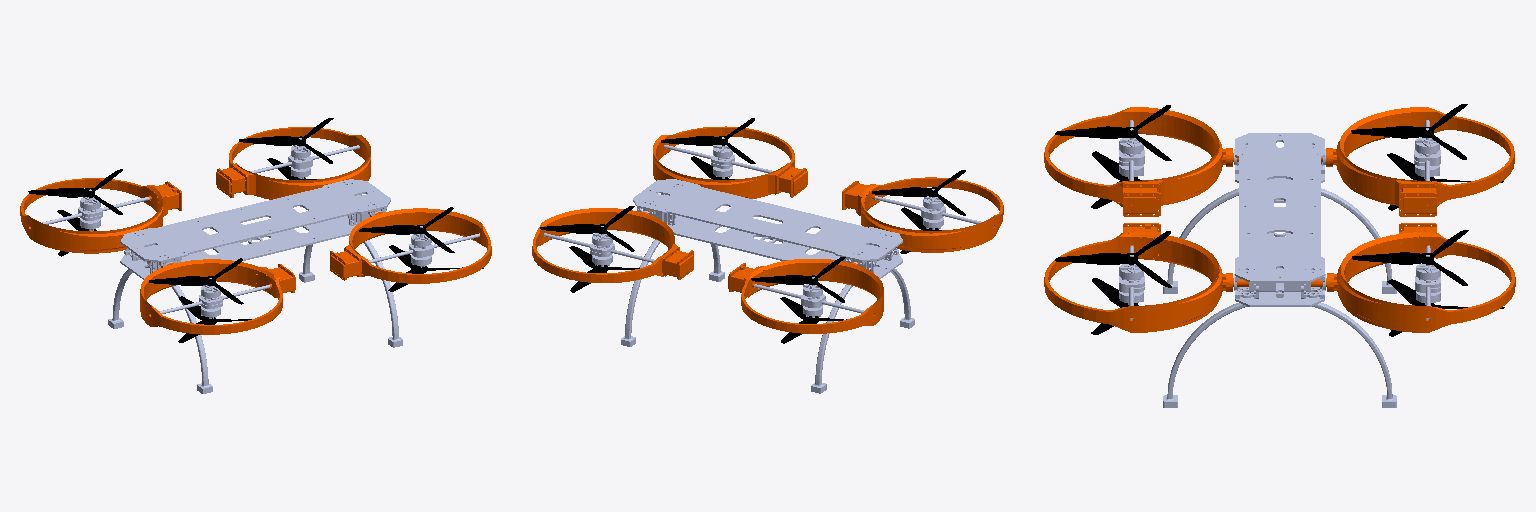
URDF robot description (AUV_USDF_V2):
<?xml version="1.0" encoding="utf-8"?>
<!-- This URDF was automatically created by SolidWorks to URDF Exporter! Originally created by Stephen Brawner (brawner@gmail.com) 
     Commit Version: 1.6.0-4-g7f85cfe  Build Version: 1.6.7995.38578
     For more information, please see http://wiki.ros.org/sw_urdf_exporter -->
<robot
  name="AUV_USDF_V2">
  <link
    name="BODY">
    <inertial>
      <origin
        xyz="-1.78864145716773E-11 1.94710775633378E-06 0.0003594008518924"
        rpy="0 0 0" />
      <mass
        value="3.63848428" />
      <inertia
        ixx="0.011423969"
        ixy="5.96079E-07"
        ixz="-3.33154E-11"
        iyy="0.039202722"
        iyz="1.68341E-11"
        izz="0.045678665" />
    </inertial>
    <visual>
      <origin
        xyz="0 0 0"
        rpy="0 0 0" />
      <geometry>
        <mesh
          filename="package://AUV_USDF_V2/meshes/BODY.STL" />
      </geometry>
      <material
        name="">
        <color
          rgba="0.792156862745098 0.819607843137255 0.933333333333333 1" />
      </material>
    </visual>
    <collision>
      <origin
        xyz="0 0 0"
        rpy="0 0 0" />
      <geometry>
        <mesh
          filename="package://AUV_USDF_V2/meshes/BODY.STL" />
      </geometry>
    </collision>
  </link>
  <link
    name="ARM_MOTOR_1">
    <inertial>
      <origin
        xyz="-0.0389784553103623 1.5313512411963E-05 0.101594427641778"
        rpy="0 0 0" />
      <mass
        value="0.171211121215418" />
      <inertia
        ixx="0.000682618573115271"
        ixy="-1.67023866326457E-08"
        ixz="8.72682825236306E-06"
        iyy="0.00143862885522161"
        iyz="3.1357988257909E-08"
        izz="0.000781642845826597" />
    </inertial>
    <visual>
      <origin
        xyz="0 0 0"
        rpy="0 0 0" />
      <geometry>
        <mesh
          filename="package://AUV_USDF_V2/meshes/ARM_MOTOR_1.STL" />
      </geometry>
      <material
        name="">
        <color
          rgba="1.0 0.42 0.0 1.0" />
      </material>
    </visual>
    <collision>
      <origin
        xyz="0 0 0"
        rpy="0 0 0" />
      <geometry>
        <mesh
          filename="package://AUV_USDF_V2/meshes/ARM_MOTOR_1.STL" />
      </geometry>
    </collision>
  </link>
  <joint
    name="ARM_MOTOR_1"
    type="continuous">
    <origin
      xyz="0.19724 -0.060947 0.016645"
      rpy="1.5708 0 -3.4641E-05" />
    <parent
      link="BODY" />
    <child
      link="ARM_MOTOR_1" />
    <axis
      xyz="0 0 1" />
    <limit
      lower="0"
      upper="0"
      effort="0"
      velocity="0" />
    <dynamics
      damping="0.1"
      friction="0.1" />
  </joint>
  <link
    name="SHAFT_MOTOR_1">
    <inertial>
      <origin
        xyz="1.24852145289012E-09 4.44040642079147E-05 6.69553094634345E-08"
        rpy="0 0 0" />
      <mass
        value="0.0392576827500334" />
      <inertia
        ixx="3.01294455795419E-06"
        ixy="-2.49453019116408E-13"
        ixz="5.66480582612659E-14"
        iyy="2.80026550719804E-05"
        iyz="-4.61766228570266E-13"
        izz="2.99746221835832E-05" />
    </inertial>
    <visual>
      <origin
        xyz="0 0 0"
        rpy="0 0 0" />
      <geometry>
        <mesh
          filename="package://AUV_USDF_V2/meshes/SHAFT_MOTOR_1.STL" />
      </geometry>
      <material
        name="">
        <color
          rgba="0.792156862745098 0.819607843137255 0.933333333333333 1" />
      </material>
    </visual>
    <collision>
      <origin
        xyz="0 0 0"
        rpy="0 0 0" />
      <geometry>
        <mesh
          filename="package://AUV_USDF_V2/meshes/SHAFT_MOTOR_1.STL" />
      </geometry>
    </collision>
  </link>
  <joint
    name="SHAFT_MOTOR_1"
    type="continuous">
    <origin
      xyz="0.0017547 0 0.13685"
      rpy="-1.5708 3.4641E-05 6.0144E-05" />
    <parent
      link="ARM_MOTOR_1" />
    <child
      link="SHAFT_MOTOR_1" />
    <axis
      xyz="1 0 0" />
    <limit
      lower="0"
      upper="0"
      effort="0"
      velocity="0" />
    <dynamics
      damping="0.1"
      friction="0.1" />
  </joint>
  <link
    name="PROP_1_1">
    <inertial>
      <origin
        xyz="4.87362366491384E-07 -1.28964568568701E-06 -6.24510597713179E-05"
        rpy="0 0 0" />
      <mass
        value="0.00995506531302418" />
      <inertia
        ixx="9.43593602626946E-06"
        ixy="-4.05974355295979E-10"
        ixz="-2.09550529039149E-11"
        iyy="9.43512824398673E-06"
        iyz="3.15967256151104E-11"
        izz="1.87718126928338E-05" />
    </inertial>
    <visual>
      <origin
        xyz="0 0 0"
        rpy="0 0 0" />
      <geometry>
        <mesh
          filename="package://AUV_USDF_V2/meshes/PROP_1_1.STL" />
      </geometry>
      <material
        name="">
        <color
          rgba="0 0 0 1" />
      </material>
    </visual>
    <collision>
      <origin
        xyz="0 0 0"
        rpy="0 0 0" />
      <geometry>
        <mesh
          filename="package://AUV_USDF_V2/meshes/PROP_1_1.STL" />
      </geometry>
    </collision>
  </link>
  <joint
    name="PROP_1_1"
    type="continuous">
    <origin
      xyz="0 0.0001885 0.0357"
      rpy="0 0 0" />
    <parent
      link="SHAFT_MOTOR_1" />
    <child
      link="PROP_1_1" />
    <axis
      xyz="0 0 1" />
    <dynamics
      damping="0.1"
      friction="0.1" />
  </joint>
  <link
    name="PROP_1_2">
    <inertial>
      <origin
        xyz="4.87362654705281E-07 -1.28965971551986E-06 -6.24510915126775E-05"
        rpy="0 0 0" />
      <mass
        value="0.00995506531341917" />
      <inertia
        ixx="9.43593602344584E-06"
        ixy="-4.05972327844376E-10"
        ixz="-2.09550594712506E-11"
        iyy="9.43512822863146E-06"
        iyz="3.15973286522418E-11"
        izz="1.87718126765833E-05" />
    </inertial>
    <visual>
      <origin
        xyz="0 0 0"
        rpy="0 0 0" />
      <geometry>
        <mesh
          filename="package://AUV_USDF_V2/meshes/PROP_1_2.STL" />
      </geometry>
      <material
        name="">
        <color
          rgba="0 0 0 1" />
      </material>
    </visual>
    <collision>
      <origin
        xyz="0 0 0"
        rpy="0 0 0" />
      <geometry>
        <mesh
          filename="package://AUV_USDF_V2/meshes/PROP_1_2.STL" />
      </geometry>
    </collision>
  </link>
  <joint
    name="PROP_1_2"
    type="continuous">
    <origin
      xyz="0 0.0001885 -0.0357"
      rpy="3.1416 0 0" />
    <parent
      link="SHAFT_MOTOR_1" />
    <child
      link="PROP_1_2" />
    <axis
      xyz="0 0 1" />
    <dynamics
      damping="0.1"
      friction="0.1" />
  </joint>
  <link
    name="ARM_MOTOR_2">
    <inertial>
      <origin
        xyz="0.0389785828760353 1.53135124115744E-05 -0.0979119276439864"
        rpy="0 0 0" />
      <mass
        value="0.171211121215422" />
      <inertia
        ixx="0.000682618573115271"
        ixy="1.6702386643458E-08"
        ixz="8.72682825235967E-06"
        iyy="0.00143862885522164"
        iyz="-3.13579882589428E-08"
        izz="0.000781642845826627" />
    </inertial>
    <visual>
      <origin
        xyz="0 0 0"
        rpy="0 0 0" />
      <geometry>
        <mesh
          filename="package://AUV_USDF_V2/meshes/ARM_MOTOR_2.STL" />
      </geometry>
      <material
        name="">
        <color
          rgba="1.0 0.42 0.0 1.0" />
      </material>
    </visual>
    <collision>
      <origin
        xyz="0 0 0"
        rpy="0 0 0" />
      <geometry>
        <mesh
          filename="package://AUV_USDF_V2/meshes/ARM_MOTOR_2.STL" />
      </geometry>
    </collision>
  </link>
  <joint
    name="ARM_MOTOR_2"
    type="continuous">
    <origin
      xyz="-0.19724 0.06363 0.016645"
      rpy="1.5708 0 -3.4641E-05" />
    <parent
      link="BODY" />
    <child
      link="ARM_MOTOR_2" />
    <axis
      xyz="0 0 1" />
    <limit
      lower="0"
      upper="0"
      effort="0"
      velocity="0" />
    <dynamics
      damping="0.1"
      friction="0.1" />
  </joint>
  <link
    name="SHAFT_MOTOR_2">
    <inertial>
      <origin
        xyz="-1.24852161942357E-09 -4.44040642077898E-05 6.69553095744568E-08"
        rpy="0 0 0" />
      <mass
        value="0.0392576827500335" />
      <inertia
        ixx="3.01294455795419E-06"
        ixy="-2.49453019919076E-13"
        ixz="-5.66480585352048E-14"
        iyy="2.80026550719804E-05"
        iyz="4.61766229393912E-13"
        izz="2.99746221835832E-05" />
    </inertial>
    <visual>
      <origin
        xyz="0 0 0"
        rpy="0 0 0" />
      <geometry>
        <mesh
          filename="package://AUV_USDF_V2/meshes/SHAFT_MOTOR_2.STL" />
      </geometry>
      <material
        name="">
        <color
          rgba="0.792156862745098 0.819607843137255 0.933333333333333 1" />
      </material>
    </visual>
    <collision>
      <origin
        xyz="0 0 0"
        rpy="0 0 0" />
      <geometry>
        <mesh
          filename="package://AUV_USDF_V2/meshes/SHAFT_MOTOR_2.STL" />
      </geometry>
    </collision>
  </link>
  <joint
    name="SHAFT_MOTOR_2"
    type="continuous">
    <origin
      xyz="-0.0017546 0 -0.13317"
      rpy="-1.5708 3.4641E-05 -6.0144E-05" />
    <parent
      link="ARM_MOTOR_2" />
    <child
      link="SHAFT_MOTOR_2" />
    <axis
      xyz="1 0 0" />
    <limit
      lower="0"
      upper="0"
      effort="0"
      velocity="0" />
    <dynamics
      damping="0.1"
      friction="0.1" />
  </joint>
  <link
    name="PROP_2_1">
    <inertial>
      <origin
        xyz="-4.87362653012191E-07 -1.28965972680598E-06 6.24510915129828E-05"
        rpy="0 0 0" />
      <mass
        value="0.00995506531341817" />
      <inertia
        ixx="9.43593602344683E-06"
        ixy="4.05972326724634E-10"
        ixz="-2.09550594696729E-11"
        iyy="9.43512822862811E-06"
        iyz="-3.15973282989264E-11"
        izz="1.87718126765809E-05" />
    </inertial>
    <visual>
      <origin
        xyz="0 0 0"
        rpy="0 0 0" />
      <geometry>
        <mesh
          filename="package://AUV_USDF_V2/meshes/PROP_2_1.STL" />
      </geometry>
      <material
        name="">
        <color
          rgba="0 0 0 1" />
      </material>
    </visual>
    <collision>
      <origin
        xyz="0 0 0"
        rpy="0 0 0" />
      <geometry>
        <mesh
          filename="package://AUV_USDF_V2/meshes/PROP_2_1.STL" />
      </geometry>
    </collision>
  </link>
  <joint
    name="PROP_2_1"
    type="continuous">
    <origin
      xyz="0 -0.0001885 0.0357"
      rpy="0 0 0" />
    <parent
      link="SHAFT_MOTOR_2" />
    <child
      link="PROP_2_1" />
    <axis
      xyz="0 0 1" />
    <dynamics
      damping="0.1"
      friction="0.1" />
  </joint>
  <link
    name="PROP_2_2">
    <inertial>
      <origin
        xyz="-4.87362368795097E-07 -1.28964569306653E-06 6.24510597723171E-05"
        rpy="0 0 0" />
      <mass
        value="0.00995506531302492" />
      <inertia
        ixx="9.43593602626727E-06"
        ixy="4.05974354480174E-10"
        ixz="-2.09550527418746E-11"
        iyy="9.43512824398459E-06"
        iyz="-3.15978934185417E-11"
        izz="1.87718126928294E-05" />
    </inertial>
    <visual>
      <origin
        xyz="0 0 0"
        rpy="0 0 0" />
      <geometry>
        <mesh
          filename="package://AUV_USDF_V2/meshes/PROP_2_2.STL" />
      </geometry>
      <material
        name="">
        <color
          rgba="0 0 0 1" />
      </material>
    </visual>
    <collision>
      <origin
        xyz="0 0 0"
        rpy="0 0 0" />
      <geometry>
        <mesh
          filename="package://AUV_USDF_V2/meshes/PROP_2_2.STL" />
      </geometry>
    </collision>
  </link>
  <joint
    name="PROP_2_2"
    type="continuous">
    <origin
      xyz="0 -0.0001885 -0.0357"
      rpy="3.1416 0 0" />
    <parent
      link="SHAFT_MOTOR_2" />
    <child
      link="PROP_2_2" />
    <axis
      xyz="0 0 1" />
    <dynamics
      damping="0.1"
      friction="0.1" />
  </joint>
  <link
    name="ARM_MOTOR_3">
    <inertial>
      <origin
        xyz="-0.0389853663267933 -1.53135124117409E-05 -0.0979092268907844"
        rpy="0 0 0" />
      <mass
        value="0.171211121215421" />
      <inertia
        ixx="0.000682617364364552"
        ixy="1.67045591446175E-08"
        ixz="-8.71996755868847E-06"
        iyy="0.00143862885522163"
        iyz="3.13568310057899E-08"
        izz="0.000781644054577331" />
    </inertial>
    <visual>
      <origin
        xyz="0 0 0"
        rpy="0 0 0" />
      <geometry>
        <mesh
          filename="package://AUV_USDF_V2/meshes/ARM_MOTOR_3.STL" />
      </geometry>
      <material
        name="">
        <color
          rgba="1.0 0.42 0.0 1.0" />
      </material>
    </visual>
    <collision>
      <origin
        xyz="0 0 0"
        rpy="0 0 0" />
      <geometry>
        <mesh
          filename="package://AUV_USDF_V2/meshes/ARM_MOTOR_3.STL" />
      </geometry>
    </collision>
  </link>
  <joint
    name="ARM_MOTOR_3"
    type="continuous">
    <origin
      xyz="0.19724 0.06463 0.016645"
      rpy="1.5708 0 -3.4641E-05" />
    <parent
      link="BODY" />
    <child
      link="ARM_MOTOR_3" />
    <axis
      xyz="0 0 1" />
    <limit
      lower="0"
      upper="0"
      effort="0"
      velocity="0" />
    <dynamics
      damping="0.1"
      friction="0.1" />
  </joint>
  <link
    name="SHAFT_MOTOR_3">
    <inertial>
      <origin
        xyz="1.24852145289012E-09 4.44040642077898E-05 6.69553094079234E-08"
        rpy="0 0 0" />
      <mass
        value="0.0392576827500335" />
      <inertia
        ixx="3.01294455795419E-06"
        ixy="-2.49454354024461E-13"
        ixz="5.66367458327576E-14"
        iyy="2.80026550719777E-05"
        iyz="-4.61766229594806E-13"
        izz="2.99746221835805E-05" />
    </inertial>
    <visual>
      <origin
        xyz="0 0 0"
        rpy="0 0 0" />
      <geometry>
        <mesh
          filename="package://AUV_USDF_V2/meshes/SHAFT_MOTOR_3.STL" />
      </geometry>
      <material
        name="">
        <color
          rgba="0.792156862745098 0.819607843137255 0.933333333333333 1" />
      </material>
    </visual>
    <collision>
      <origin
        xyz="0 0 0"
        rpy="0 0 0" />
      <geometry>
        <mesh
          filename="package://AUV_USDF_V2/meshes/SHAFT_MOTOR_3.STL" />
      </geometry>
    </collision>
  </link>
  <joint
    name="SHAFT_MOTOR_3"
    type="continuous">
    <origin
      xyz="0.0017454 0 -0.13279"
      rpy="-1.5708 3.4641E-05 -6.0144E-05" />
    <parent
      link="ARM_MOTOR_3" />
    <child
      link="SHAFT_MOTOR_3" />
    <axis
      xyz="1 0 0" />
    <limit
      lower="0"
      upper="0"
      effort="0"
      velocity="0" />
    <dynamics
      damping="0.1"
      friction="0.1" />
  </joint>
  <link
    name="PROP_3_1">
    <inertial>
      <origin
        xyz="-4.87362671941494E-07 1.2896597070336E-06 -6.24510915127052E-05"
        rpy="0 0 0" />
      <mass
        value="0.00995506531341824" />
      <inertia
        ixx="9.43593602344677E-06"
        ixy="-4.05972333147597E-10"
        ixz="2.0955059198784E-11"
        iyy="9.43512822863673E-06"
        iyz="-3.15973287584028E-11"
        izz="1.87718126765895E-05" />
    </inertial>
    <visual>
      <origin
        xyz="0 0 0"
        rpy="0 0 0" />
      <geometry>
        <mesh
          filename="package://AUV_USDF_V2/meshes/PROP_3_1.STL" />
      </geometry>
      <material
        name="">
        <color
          rgba="0 0 0 1" />
      </material>
    </visual>
    <collision>
      <origin
        xyz="0 0 0"
        rpy="0 0 0" />
      <geometry>
        <mesh
          filename="package://AUV_USDF_V2/meshes/PROP_3_1.STL" />
      </geometry>
    </collision>
  </link>
  <joint
    name="PROP_3_1"
    type="continuous">
    <origin
      xyz="0 0.0001885 0.0357"
      rpy="-3.1416 0 0" />
    <parent
      link="SHAFT_MOTOR_3" />
    <child
      link="PROP_3_1" />
    <axis
      xyz="0 0 1" />
    <dynamics
      damping="0.1"
      friction="0.1" />
  </joint>
  <link
    name="PROP_3_2">
    <inertial>
      <origin
        xyz="-4.87362359719024E-07 1.289645696987E-06 -6.24510597707073E-05"
        rpy="0 0 0" />
      <mass
        value="0.00995506531302349" />
      <inertia
        ixx="9.43593602626685E-06"
        ixy="-4.05974353805243E-10"
        ixz="2.09550530162811E-11"
        iyy="9.43512824398347E-06"
        iyz="-3.15978933747527E-11"
        izz="1.8771812692828E-05" />
    </inertial>
    <visual>
      <origin
        xyz="0 0 0"
        rpy="0 0 0" />
      <geometry>
        <mesh
          filename="package://AUV_USDF_V2/meshes/PROP_3_2.STL" />
      </geometry>
      <material
        name="">
        <color
          rgba="0 0 0 1" />
      </material>
    </visual>
    <collision>
      <origin
        xyz="0 0 0"
        rpy="0 0 0" />
      <geometry>
        <mesh
          filename="package://AUV_USDF_V2/meshes/PROP_3_2.STL" />
      </geometry>
    </collision>
  </link>
  <joint
    name="PROP_3_2"
    type="continuous">
    <origin
      xyz="0 0.0001885 -0.0357"
      rpy="0 0 0" />
    <parent
      link="SHAFT_MOTOR_3" />
    <child
      link="PROP_3_2" />
    <axis
      xyz="0 0 1" />
    <dynamics
      damping="0.1"
      friction="0.1" />
  </joint>
  <link
    name="ARM_MOTOR_4">
    <inertial>
      <origin
        xyz="0.0389853663267926 -1.53135124117409E-05 0.0979092268907847"
        rpy="0 0 0" />
      <mass
        value="0.17121112121542" />
      <inertia
        ixx="0.000682617364364563"
        ixy="-1.67045591449621E-08"
        ixz="-8.71996755868492E-06"
        iyy="0.00143862885522163"
        iyz="-3.13568310056167E-08"
        izz="0.000781644054577328" />
    </inertial>
    <visual>
      <origin
        xyz="0 0 0"
        rpy="0 0 0" />
      <geometry>
        <mesh
          filename="package://AUV_USDF_V2/meshes/ARM_MOTOR_4.STL" />
      </geometry>
      <material
        name="">
        <color
          rgba="1.0 0.42 0.0 1.0" />
      </material>
    </visual>
    <collision>
      <origin
        xyz="0 0 0"
        rpy="0 0 0" />
      <geometry>
        <mesh
          filename="package://AUV_USDF_V2/meshes/ARM_MOTOR_4.STL" />
      </geometry>
    </collision>
  </link>
  <joint
    name="ARM_MOTOR_4"
    type="continuous">
    <origin
      xyz="-0.19724 -0.06463 0.016645"
      rpy="1.5708 0 -3.4641E-05" />
    <parent
      link="BODY" />
    <child
      link="ARM_MOTOR_4" />
    <axis
      xyz="0 0 1" />
    <limit
      lower="0"
      upper="0"
      effort="0"
      velocity="0" />
    <dynamics
      damping="0.1"
      friction="0.1" />
  </joint>
  <link
    name="SHAFT_MOTOR_4">
    <inertial>
      <origin
        xyz="-1.24852139737897E-09 -4.44040642078591E-05 6.6955309629968E-08"
        rpy="0 0 0" />
      <mass
        value="0.0392576827500334" />
      <inertia
        ixx="3.01294455795419E-06"
        ixy="-2.49454354519068E-13"
        ixz="-5.66367483241609E-14"
        iyy="2.80026550719777E-05"
        iyz="4.61766228312664E-13"
        izz="2.99746221835806E-05" />
    </inertial>
    <visual>
      <origin
        xyz="0 0 0"
        rpy="0 0 0" />
      <geometry>
        <mesh
          filename="package://AUV_USDF_V2/meshes/SHAFT_MOTOR_4.STL" />
      </geometry>
      <material
        name="">
        <color
          rgba="0.792156862745098 0.819607843137255 0.933333333333333 1" />
      </material>
    </visual>
    <collision>
      <origin
        xyz="0 0 0"
        rpy="0 0 0" />
      <geometry>
        <mesh
          filename="package://AUV_USDF_V2/meshes/SHAFT_MOTOR_4.STL" />
      </geometry>
    </collision>
  </link>
  <joint
    name="SHAFT_MOTOR_4"
    type="continuous">
    <origin
      xyz="-0.0017454 0 0.13279"
      rpy="-1.5708 3.4641E-05 6.0144E-05" />
    <parent
      link="ARM_MOTOR_4" />
    <child
      link="SHAFT_MOTOR_4" />
    <axis
      xyz="1 0 0" />
    <limit
      lower="0"
      upper="0"
      effort="0"
      velocity="0" />
    <dynamics
      damping="0.1"
      friction="0.1" />
  </joint>
  <link
    name="PROP_4_1">
    <inertial>
      <origin
        xyz="4.87362365131361E-07 1.2896456886291E-06 6.2451059771873E-05"
        rpy="0 0 0" />
      <mass
        value="0.00995506531302379" />
      <inertia
        ixx="9.43593602626533E-06"
        ixy="4.05974355269463E-10"
        ixz="2.09550528563221E-11"
        iyy="9.43512824398538E-06"
        iyz="3.15978935544459E-11"
        izz="1.87718126928283E-05" />
    </inertial>
    <visual>
      <origin
        xyz="0 0 0"
        rpy="0 0 0" />
      <geometry>
        <mesh
          filename="package://AUV_USDF_V2/meshes/PROP_4_1.STL" />
      </geometry>
      <material
        name="">
        <color
          rgba="0 0 0 1" />
      </material>
    </visual>
    <collision>
      <origin
        xyz="0 0 0"
        rpy="0 0 0" />
      <geometry>
        <mesh
          filename="package://AUV_USDF_V2/meshes/PROP_4_1.STL" />
      </geometry>
    </collision>
  </link>
  <joint
    name="PROP_4_1"
    type="continuous">
    <origin
      xyz="0 -0.0001885 0.0357"
      rpy="-3.1416 0 0" />
    <parent
      link="SHAFT_MOTOR_4" />
    <child
      link="PROP_4_1" />
    <axis
      xyz="0 0 1" />
    <dynamics
      damping="0.1"
      friction="0.1" />
  </joint>
  <link
    name="PROP_4_2">
    <inertial>
      <origin
        xyz="4.87362667001001E-07 1.28965970563888E-06 6.24510915121779E-05"
        rpy="0 0 0" />
      <mass
        value="0.00995506531341352" />
      <inertia
        ixx="9.43593602344407E-06"
        ixy="4.0597233170694E-10"
        ixz="2.09550592559111E-11"
        iyy="9.4351282286353E-06"
        iyz="3.1597328720313E-11"
        izz="1.87718126765854E-05" />
    </inertial>
    <visual>
      <origin
        xyz="0 0 0"
        rpy="0 0 0" />
      <geometry>
        <mesh
          filename="package://AUV_USDF_V2/meshes/PROP_4_2.STL" />
      </geometry>
      <material
        name="">
        <color
          rgba="0 0 0 1" />
      </material>
    </visual>
    <collision>
      <origin
        xyz="0 0 0"
        rpy="0 0 0" />
      <geometry>
        <mesh
          filename="package://AUV_USDF_V2/meshes/PROP_4_2.STL" />
      </geometry>
    </collision>
  </link>
  <joint
    name="PROP_4_2"
    type="continuous">
    <origin
      xyz="0 -0.0001885 -0.0357"
      rpy="0 0 0" />
    <parent
      link="SHAFT_MOTOR_4" />
    <child
      link="PROP_4_2" />
    <axis
      xyz="0 0 1" />
    <dynamics
      damping="0.1"
      friction="0.1" />
  </joint>
</robot>

--- Facts derived from the render (not from the file) ---
3 views of the same robot in one strip: view 1: azimuth 30°, elevation 25°; view 2: azimuth 150°, elevation 25°; view 3: azimuth 270°, elevation 25° (orthographic).
Robot: AUV_USDF_V2 — 17 links, 16 joints (16 continuous); root link BODY; default pose: all joints at 0.
Links seen in each view (by area): view 1: BODY, ARM_MOTOR_1, ARM_MOTOR_4, ARM_MOTOR_2, ARM_MOTOR_3, SHAFT_MOTOR_1, SHAFT_MOTOR_2, SHAFT_MOTOR_4, SHAFT_MOTOR_3, PROP_4_1, PROP_2_1, PROP_3_1 (+1 smaller); view 2: BODY, ARM_MOTOR_3, ARM_MOTOR_2, ARM_MOTOR_4, ARM_MOTOR_1, SHAFT_MOTOR_3, SHAFT_MOTOR_2, SHAFT_MOTOR_4, SHAFT_MOTOR_1, PROP_3_1, PROP_1_1, PROP_4_1 (+2 smaller); view 3: BODY, ARM_MOTOR_1, ARM_MOTOR_4, ARM_MOTOR_3, ARM_MOTOR_2, PROP_3_1, PROP_2_1, PROP_1_1, PROP_4_1, SHAFT_MOTOR_2, SHAFT_MOTOR_4, SHAFT_MOTOR_3 (+2 smaller).
Link boxes in pixels (x1,y1,x2,y2): BODY: (108,179,402,393); ARM_MOTOR_1: (330,208,491,283); ARM_MOTOR_4: (140,259,295,334); ARM_MOTOR_2: (20,178,181,253); ARM_MOTOR_3: (216,127,370,199); SHAFT_MOTOR_1: (368,226,479,267); SHAFT_MOTOR_2: (42,189,149,230); SHAFT_MOTOR_4: (159,278,269,318); SHAFT_MOTOR_3: (250,138,359,178); PROP_4_1: (149,258,243,304); PROP_2_1: (28,169,122,214); PROP_3_1: (239,118,333,163); BODY: (621,179,914,393); ARM_MOTOR_3: (532,208,693,282); ARM_MOTOR_2: (728,259,883,333); ARM_MOTOR_4: (842,177,1003,252); ARM_MOTOR_1: (653,126,807,198); SHAFT_MOTOR_3: (544,226,654,266); SHAFT_MOTOR_2: (754,277,863,317); SHAFT_MOTOR_4: (874,189,980,229); SHAFT_MOTOR_1: (664,137,772,178); PROP_3_1: (540,206,634,251); PROP_1_1: (661,118,755,163); PROP_4_1: (872,170,965,215); BODY: (1163,133,1396,407); ARM_MOTOR_1: (1044,223,1248,332); ARM_MOTOR_4: (1044,107,1238,216); ARM_MOTOR_3: (1311,223,1515,332); ARM_MOTOR_2: (1321,107,1514,216); PROP_3_1: (1352,230,1468,285); PROP_2_1: (1351,104,1467,159); PROP_1_1: (1055,231,1171,287); PROP_4_1: (1055,105,1171,160); SHAFT_MOTOR_2: (1414,120,1440,180); SHAFT_MOTOR_4: (1119,120,1144,180); SHAFT_MOTOR_3: (1415,246,1440,319).
Bounding box of the posed robot: 0.6277 × 0.6275 × 0.2292 m (x, y, z).
17 mesh visuals loaded from 17 distinct referenced files (17 binary STL).
